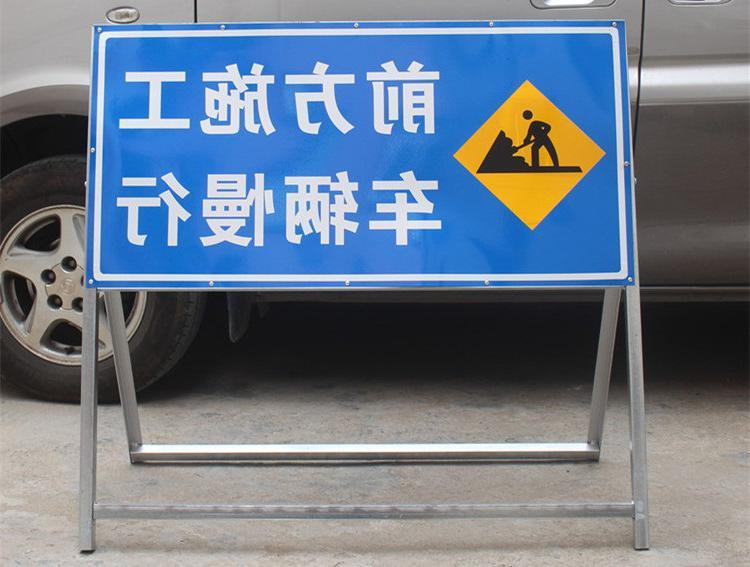sign: (89, 21, 629, 289)
